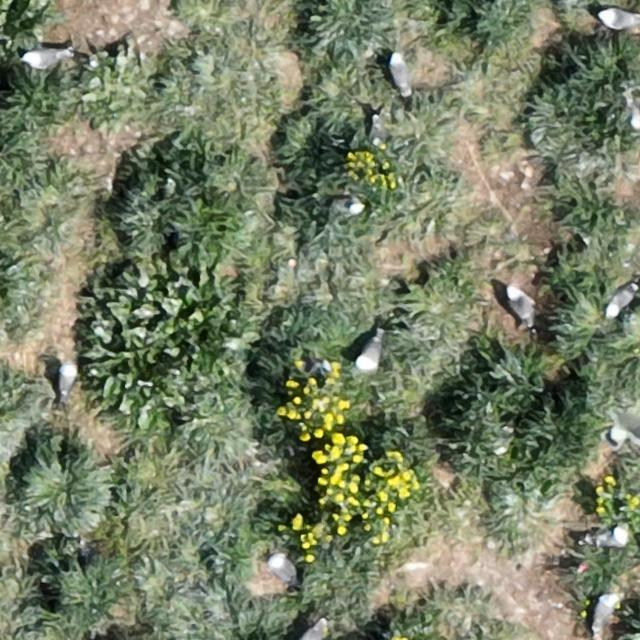umineko: (508, 288, 534, 326), (607, 284, 635, 316), (598, 9, 637, 30), (358, 335, 382, 369), (390, 54, 411, 92), (24, 49, 64, 68), (593, 528, 628, 548), (269, 557, 293, 586), (593, 596, 614, 629), (58, 363, 76, 397)
